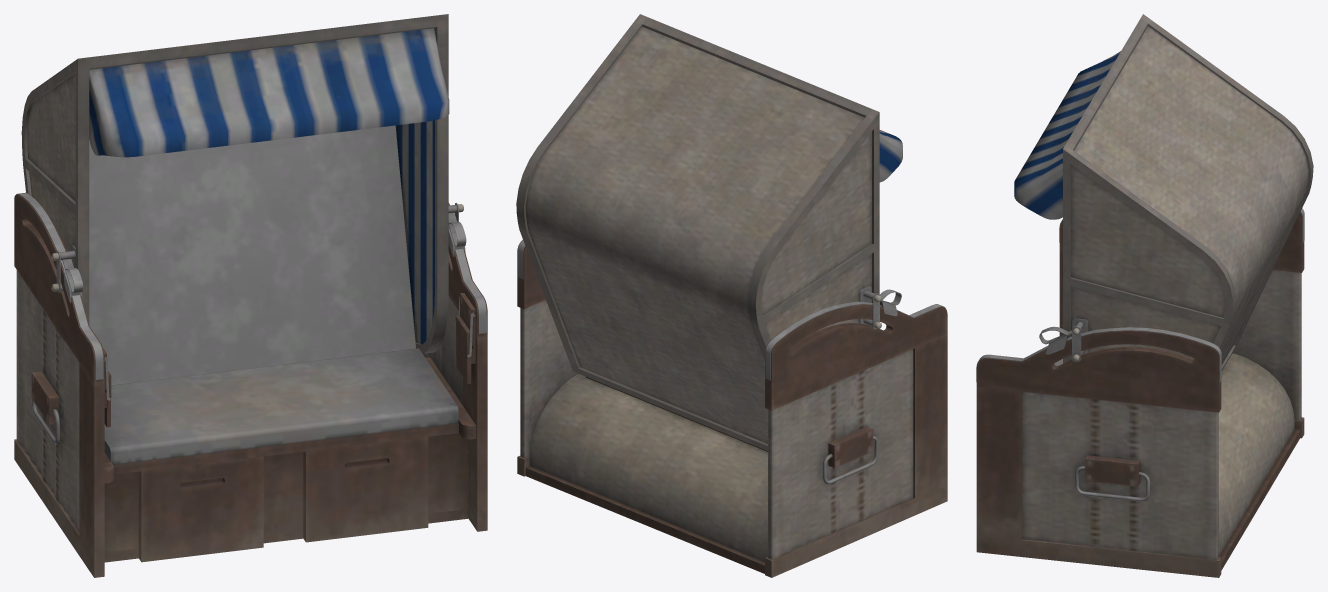
File: ItemSpot.fbx
The picture shows the model from 3 angles, left to right: view 1: azimuth 30°, elevation 25°; view 2: azimuth 150°, elevation 25°; view 3: azimuth 270°, elevation 25°; orthographic projection. The views are drawn at different scales.
Visible parts, largest first — view 1: ItemBox_BeachChair; view 2: ItemBox_BeachChair; view 3: ItemBox_BeachChair.
Boxes of the visible parts, bbox=[...] form: ItemBox_BeachChair: bbox=[14, 14, 487, 577]; ItemBox_BeachChair: bbox=[516, 14, 947, 577]; ItemBox_BeachChair: bbox=[976, 14, 1313, 577].
Size of the model in its own units: 2 by 2.25 by 1.68.
Materials: 1 (1 with a texture image).
